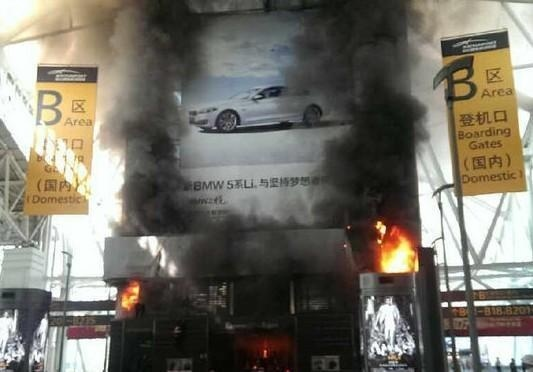fire: (374, 220, 420, 271), (118, 279, 140, 308)
